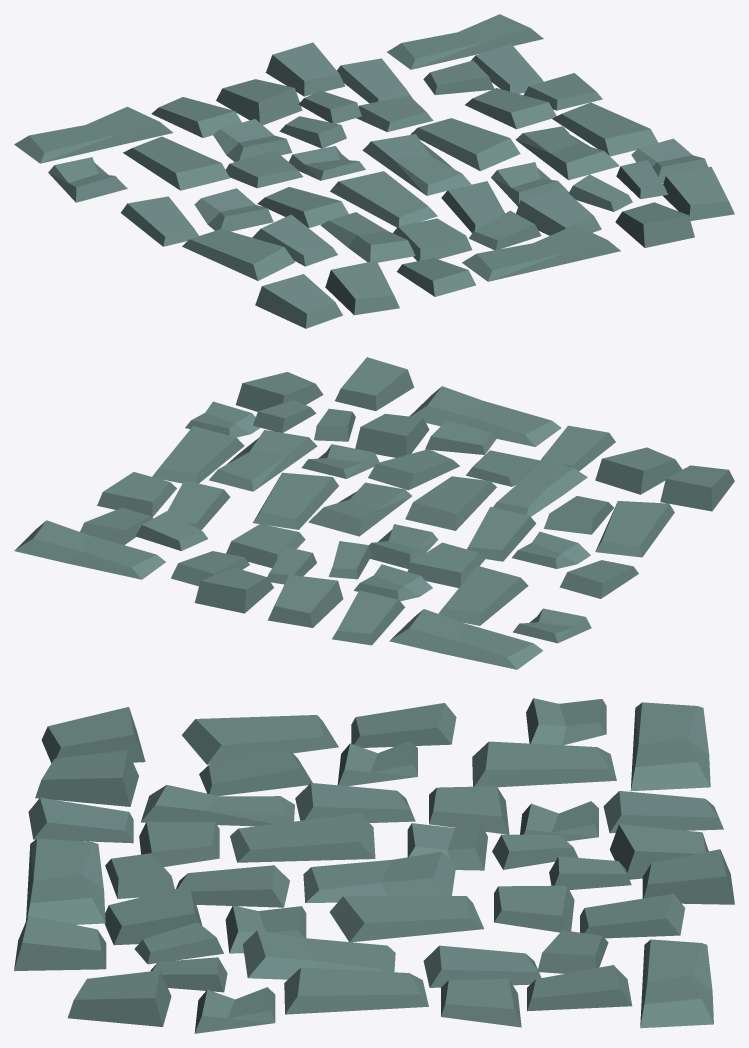
Rendered from SM_L_Env_Tile_Tile.fbx.
The picture shows the model from 3 angles, top to bottom: view 1: azimuth 30°, elevation 25°; view 2: azimuth 150°, elevation 25°; view 3: azimuth 270°, elevation 25°; orthographic projection. The views are drawn at different scales.
Parts seen in each view (by area): view 1: SM_L_Env_Tile; view 2: SM_L_Env_Tile; view 3: SM_L_Env_Tile.
Part boxes in pixels (<box>): SM_L_Env_Tile: <box>14,14,734,328</box>; SM_L_Env_Tile: <box>14,357,734,669</box>; SM_L_Env_Tile: <box>14,698,734,1033</box>.
Size of the model in its own units: 115 by 5.89 by 108.
